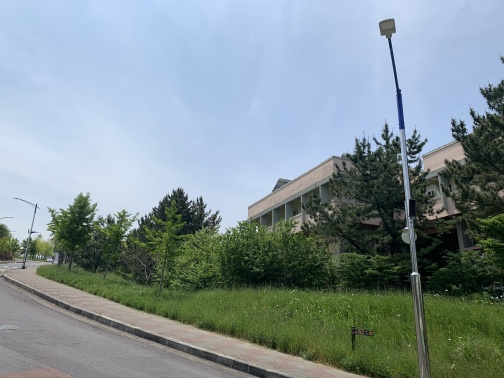College Of Education: (234, 126, 504, 257)
